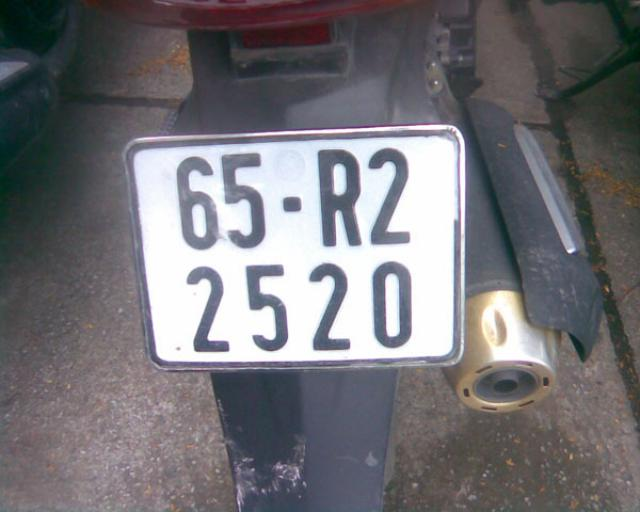plate: (132, 141, 476, 363)
